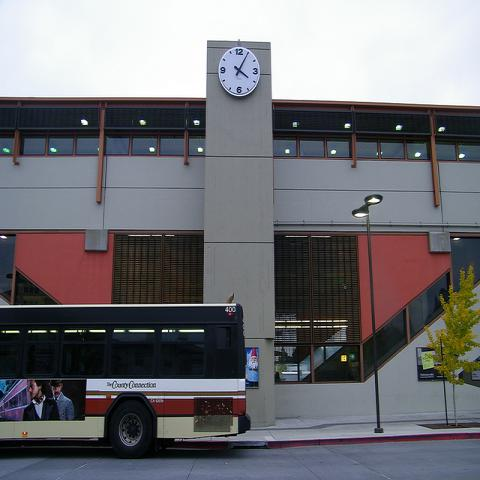bus: (0, 304, 250, 460)
